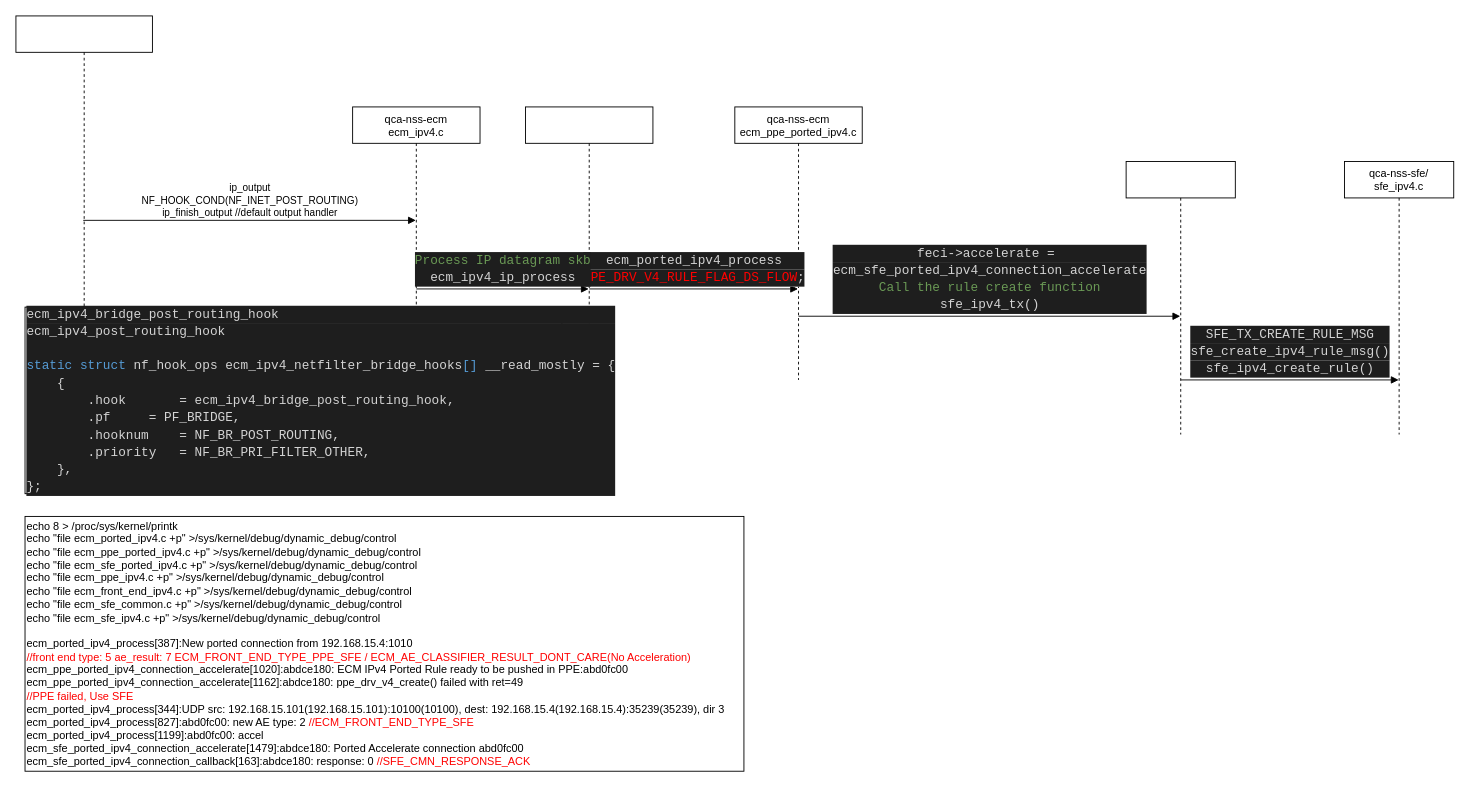
This 1470x787 diagram has some shape labels left out. The box of each missing label's shape, as (x1, y1, x2, y2) in pixels:
net/ipv4 ip_output.c: (15, 15, 152, 307)
qca-nss-ecm ecm_ported_ipv4.c: (525, 106, 653, 380)
qca-nss-sfe/sfe.c: (1125, 161, 1235, 435)
